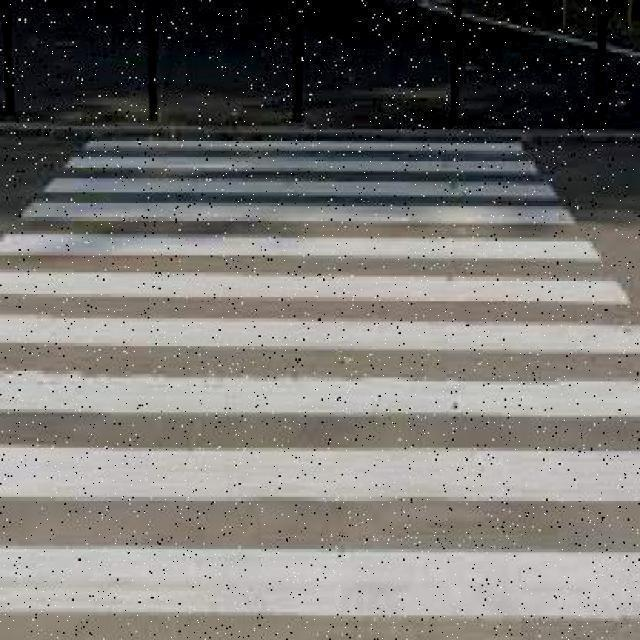crosswalk: (0, 137, 640, 618)
